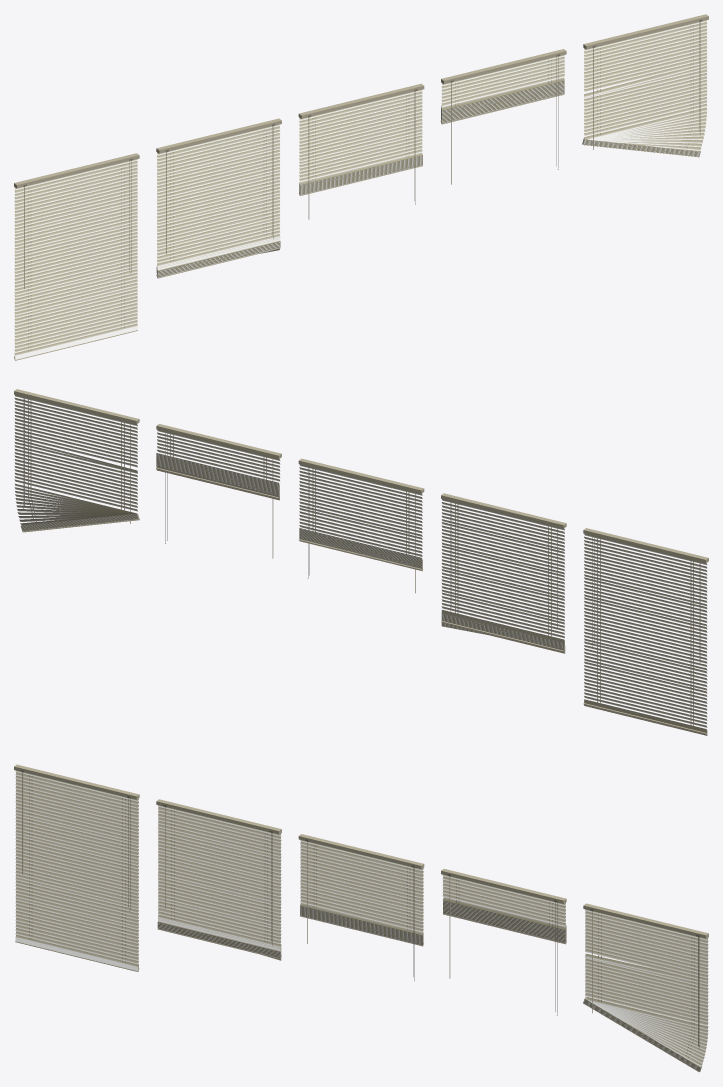
Rendered from blinds.dae.
3 views of the same model, one above another, from view 1: azimuth 30°, elevation 25°; view 2: azimuth 150°, elevation 25°; view 3: azimuth 330°, elevation 25° (orthographic).
Parts seen in each view (by area): view 1: Component_58 (×5), Component_63 (×2), group_4, group_7, Component_61; view 2: Component_58 (×5), Component_63 (×2), group_4, group_7; view 3: Component_61 (×122), Component_58 (×5), Component_63 (×2), group_4, group_7.
Part boxes in pixels (x1=…): Component_58 (×5): x1=14, y1=14, x2=708, y2=188; Component_63 (×2): x1=299, y1=137, x2=700, y2=195; group_4: x1=441, y1=77, x2=564, y2=123; group_7: x1=157, y1=240, x2=280, y2=277; Component_61: x1=584, y1=107, x2=707, y2=139; Component_58 (×5): x1=14, y1=389, x2=708, y2=563; Component_63 (×2): x1=20, y1=513, x2=421, y2=567; group_4: x1=156, y1=453, x2=278, y2=495; group_7: x1=441, y1=613, x2=564, y2=649; Component_61 (×122): x1=15, y1=772, x2=708, y2=1029; Component_58 (×5): x1=14, y1=764, x2=708, y2=938; Component_63 (×2): x1=300, y1=903, x2=701, y2=1071; group_4: x1=443, y1=897, x2=566, y2=943; group_7: x1=157, y1=921, x2=280, y2=958.
Bounding box in the file's own units: 212 × 1.72 × 51.58.
